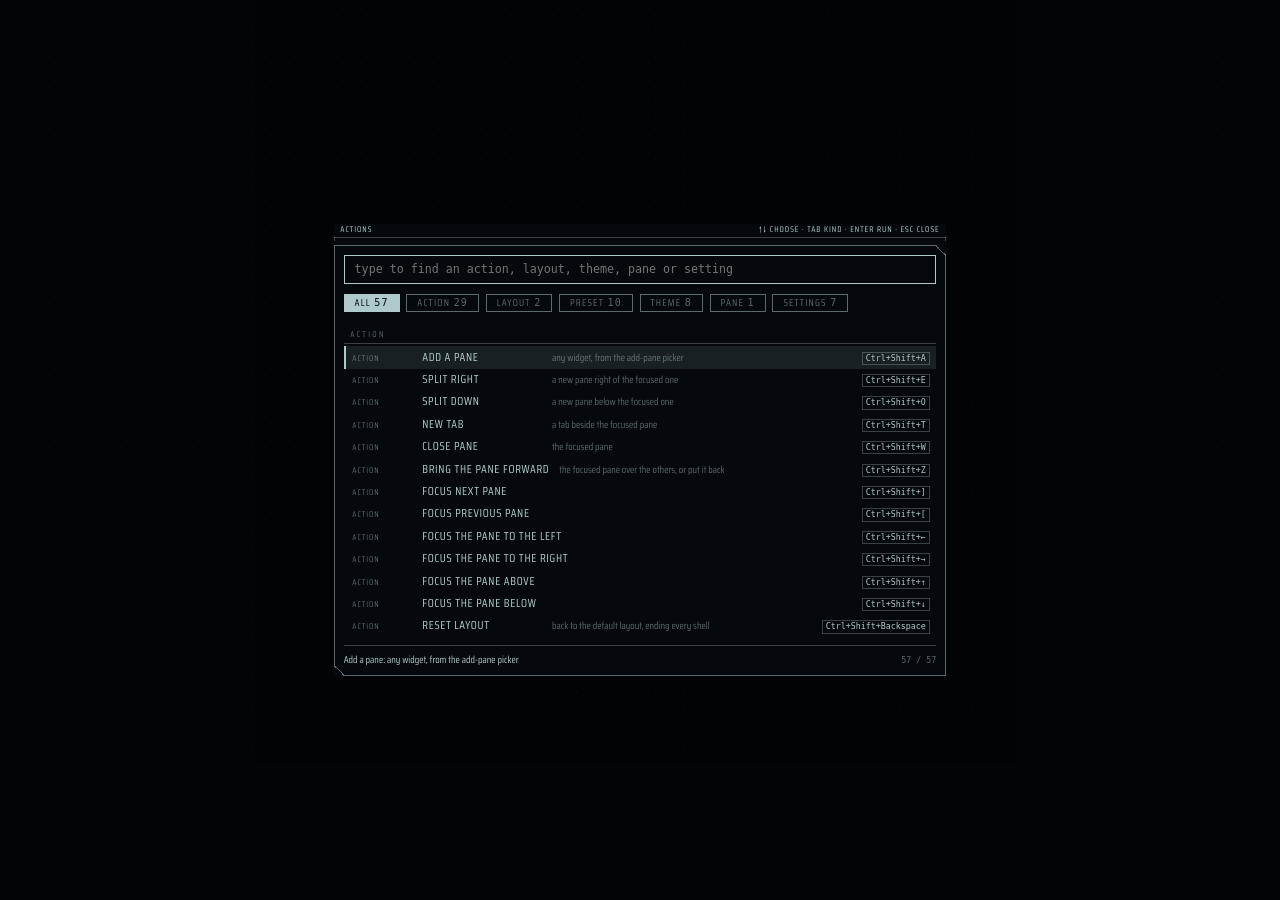
Test case: what a review found (2026-10-20) › leaves a row out of the recent ones when it did not run after all
In the field with test id "action-palette-filter": {"x": 640, "y": 269} [344, 255, 936, 284], type "split right"
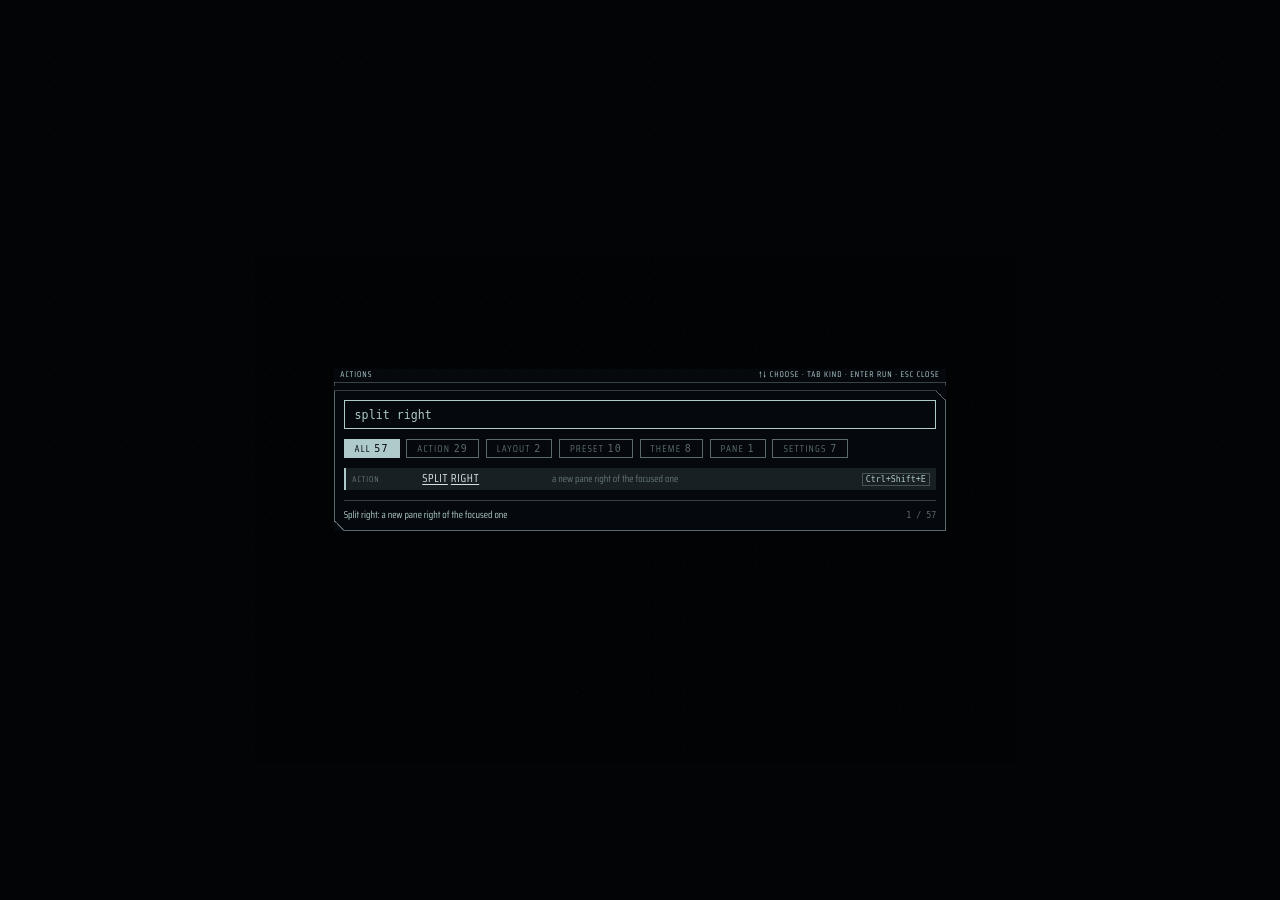
Press Enter in the field with test id "action-palette-filter", box [344, 400, 936, 429]
(page scrolled)
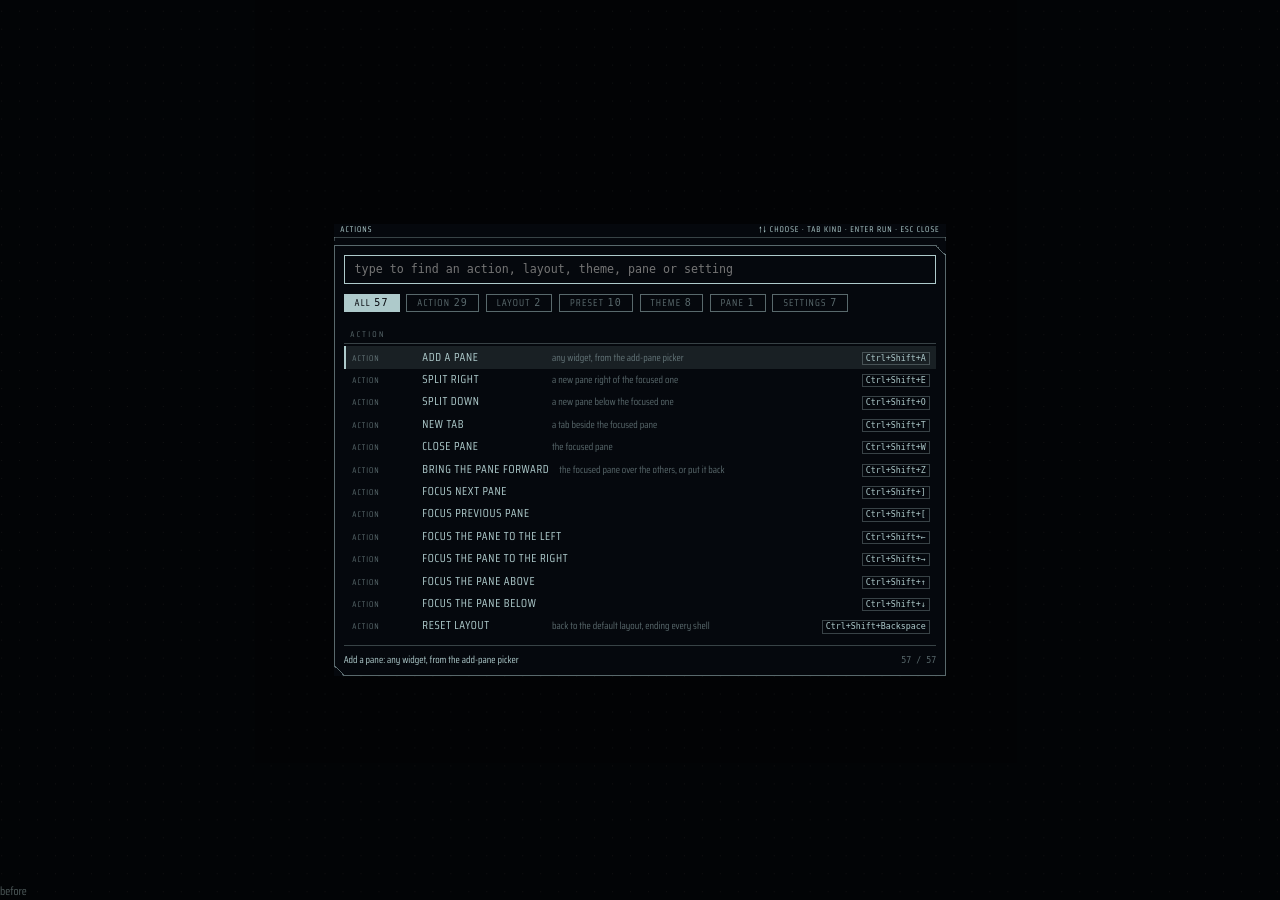
In the field with test id "action-palette-filter": {"x": 640, "y": 269} [344, 255, 936, 284], type "night"
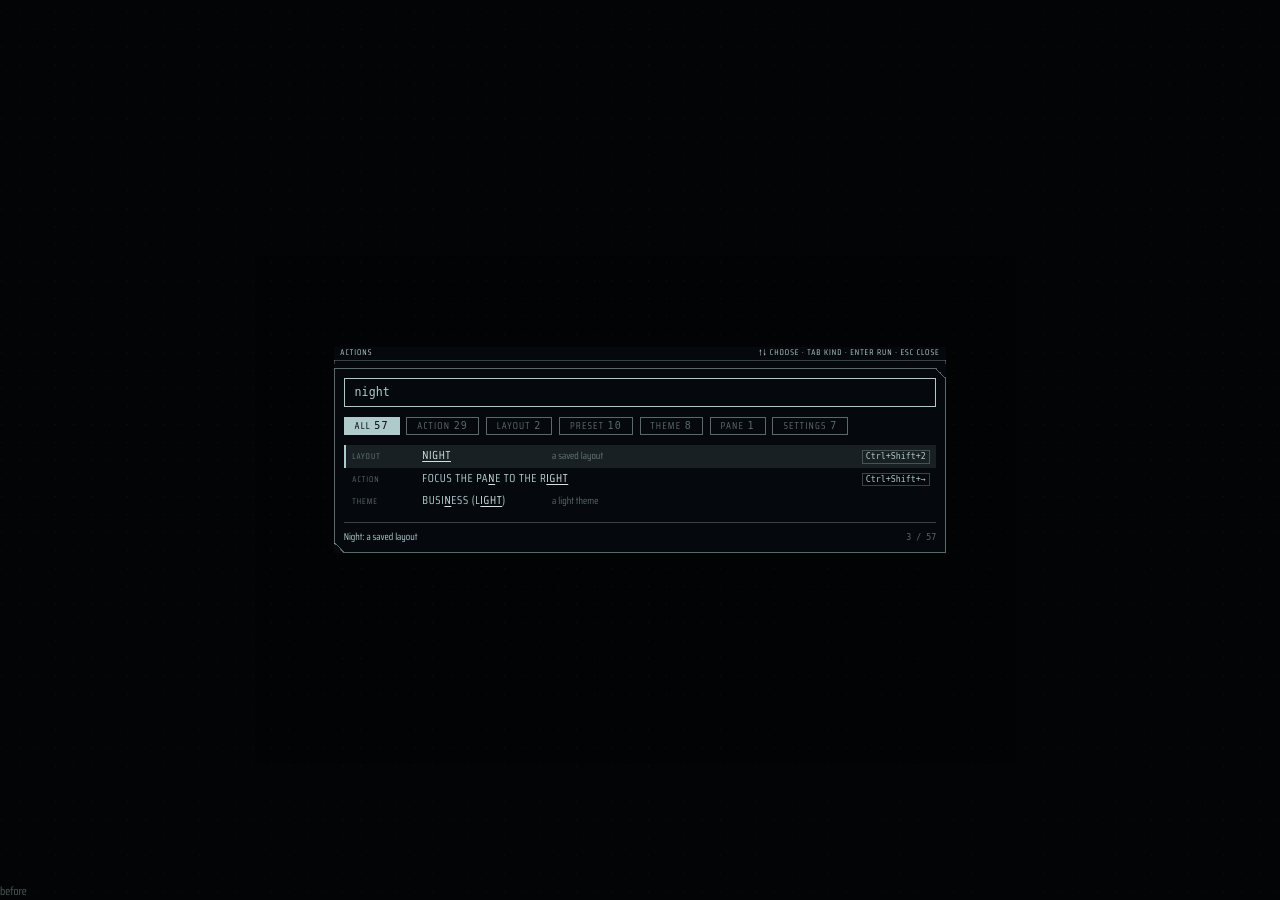
Press Enter in the field with test id "action-palette-filter", box [344, 378, 936, 407]
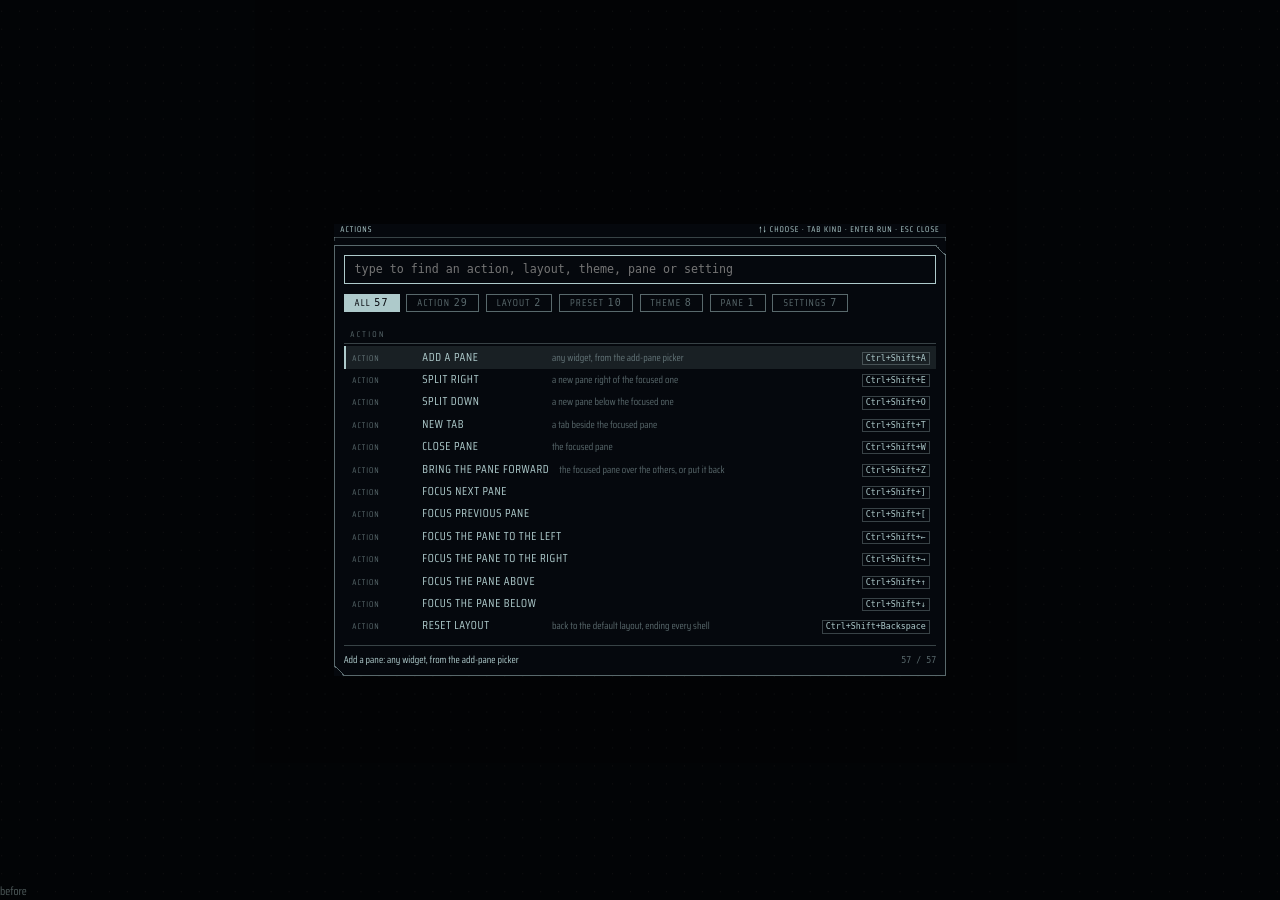
Expected: the field with test id "action-palette-filter" is shown, [344, 255, 936, 284]
Result: the list item with test id "action-palette-heading" reads "action" at [350, 328, 386, 341]
